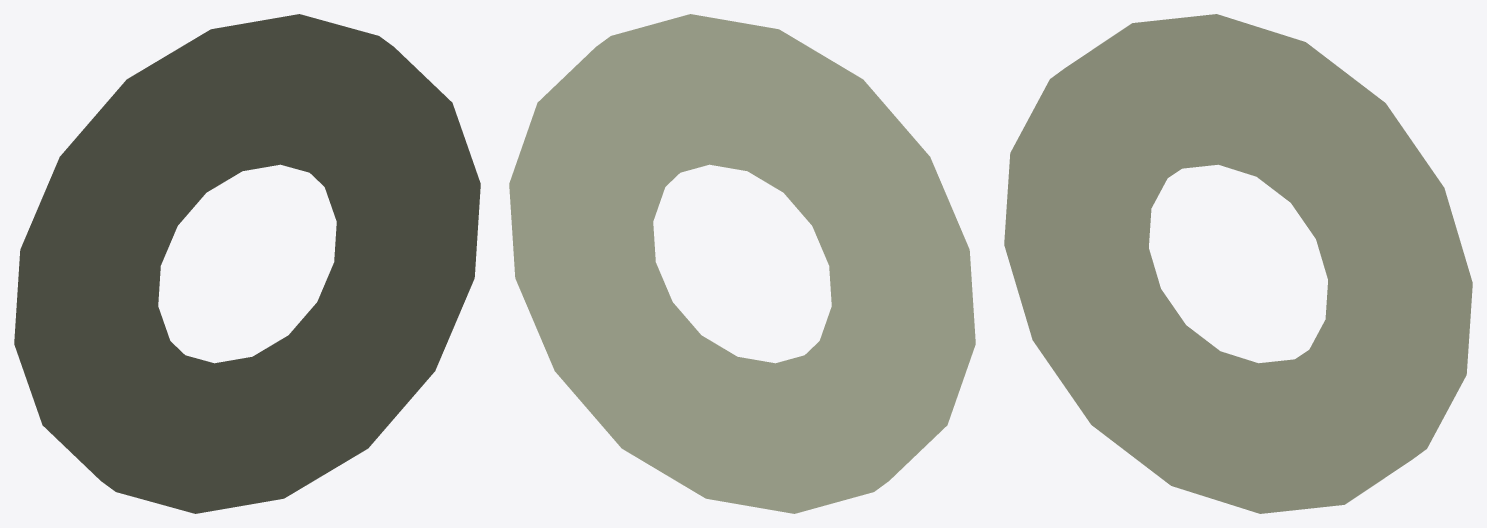
The model's file is washer.dae.
3 renders of one model, left to right at view 1: azimuth 30°, elevation 25°; view 2: azimuth 150°, elevation 25°; view 3: azimuth 330°, elevation 25°, orthographic.
Parts seen in each view (by area): view 1: Cylinder3-0; view 2: Cylinder3-0; view 3: Cylinder3-0.
Part boxes in pixels (x1,y1,x2,y2): Cylinder3-0: [14, 14, 480, 513]; Cylinder3-0: [509, 14, 975, 513]; Cylinder3-0: [1004, 14, 1472, 513].
Bounding box in the file's own units: 0.0347 × 0.0347 × 0.002.
